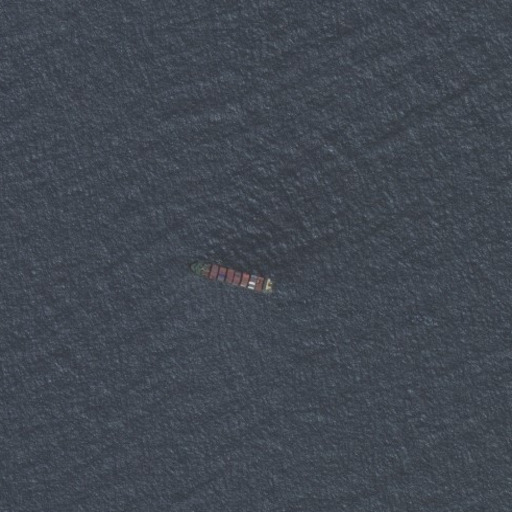ship: (187, 259, 277, 297)
